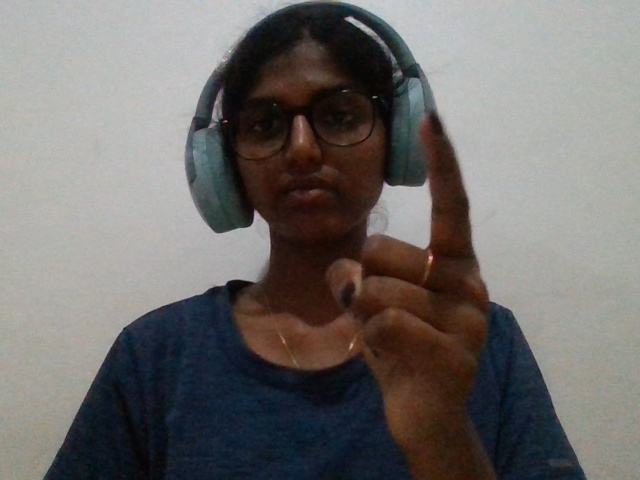You: (301, 81, 529, 461)
